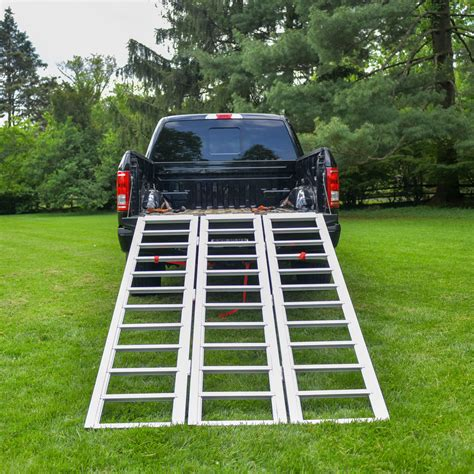Yard Ramp: (81, 214, 390, 429)
